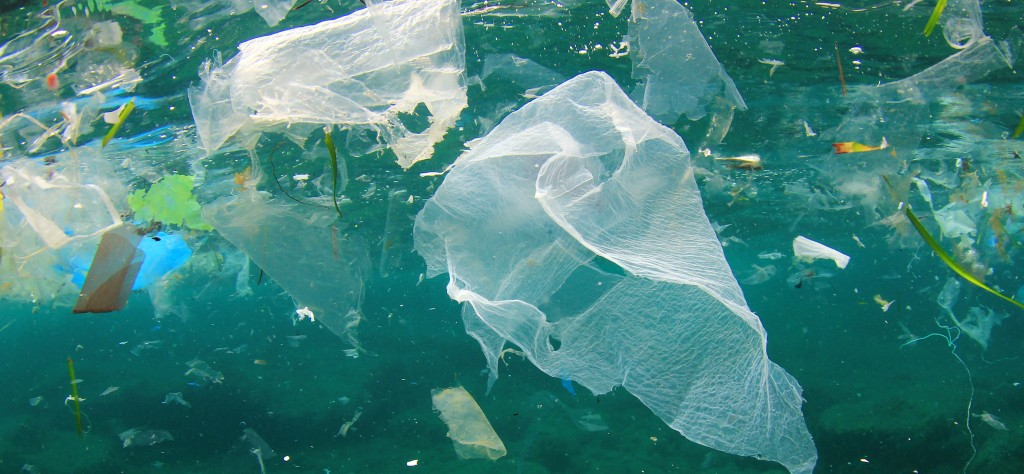litter: (410, 67, 870, 472), (168, 1, 488, 163), (1, 175, 224, 322), (872, 264, 1011, 469), (53, 204, 193, 332), (407, 374, 536, 470), (766, 218, 857, 299)
